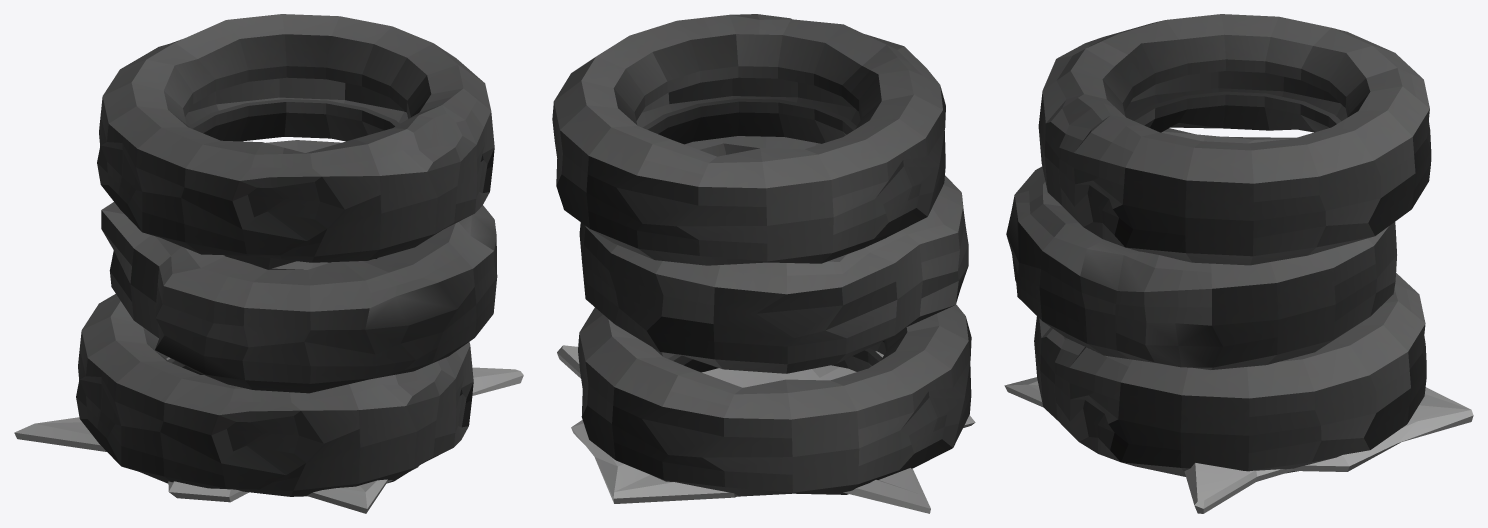
File: tire_clsuter_3.glb
3 views of the same model, side by side, from view 1: azimuth 30°, elevation 25°; view 2: azimuth 150°, elevation 25°; view 3: azimuth 270°, elevation 25° (orthographic).
Parts seen in each view (by area): view 1: tire_clsuter_3; view 2: tire_clsuter_3; view 3: tire_clsuter_3.
Boxes of the visible parts, x1=… form: tire_clsuter_3: x1=14, y1=14, x2=523, y2=513; tire_clsuter_3: x1=552, y1=14, x2=975, y2=513; tire_clsuter_3: x1=1004, y1=14, x2=1473, y2=513.
Size of the model in its own units: 1.48 by 1.12 by 1.37.
Materials: 1 (1 with a texture image).
